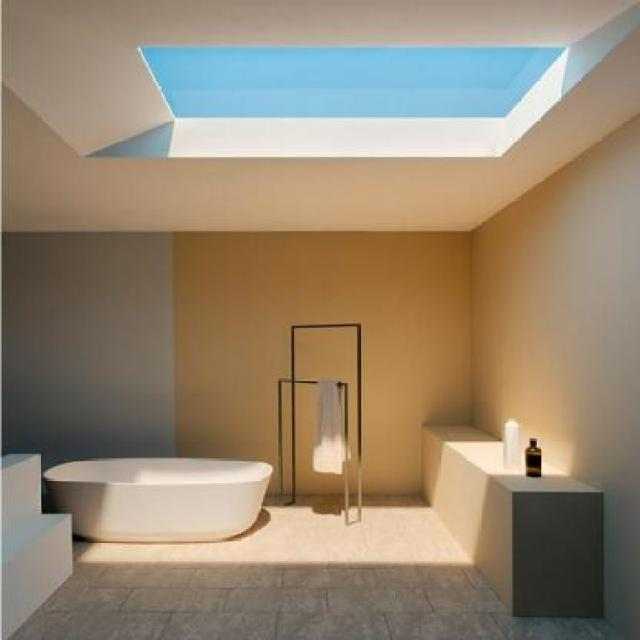Floor: (8, 493, 640, 639), (348, 495, 358, 522), (283, 494, 292, 503)
